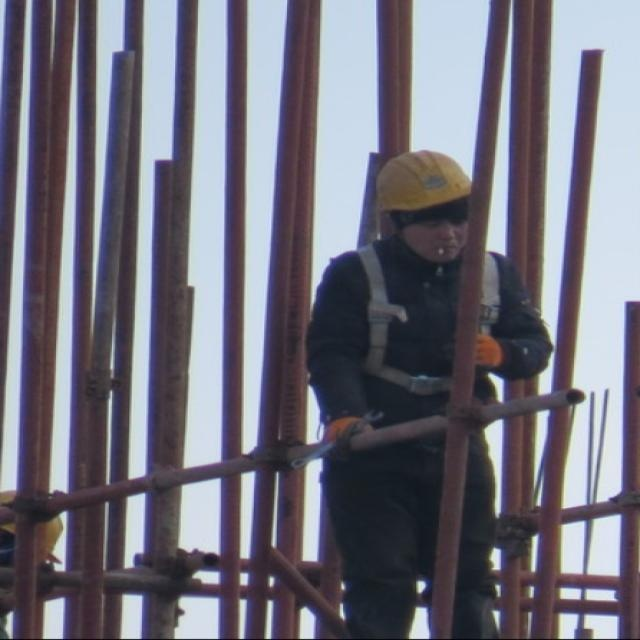Arnes_seguridad: (337, 242, 505, 396)
